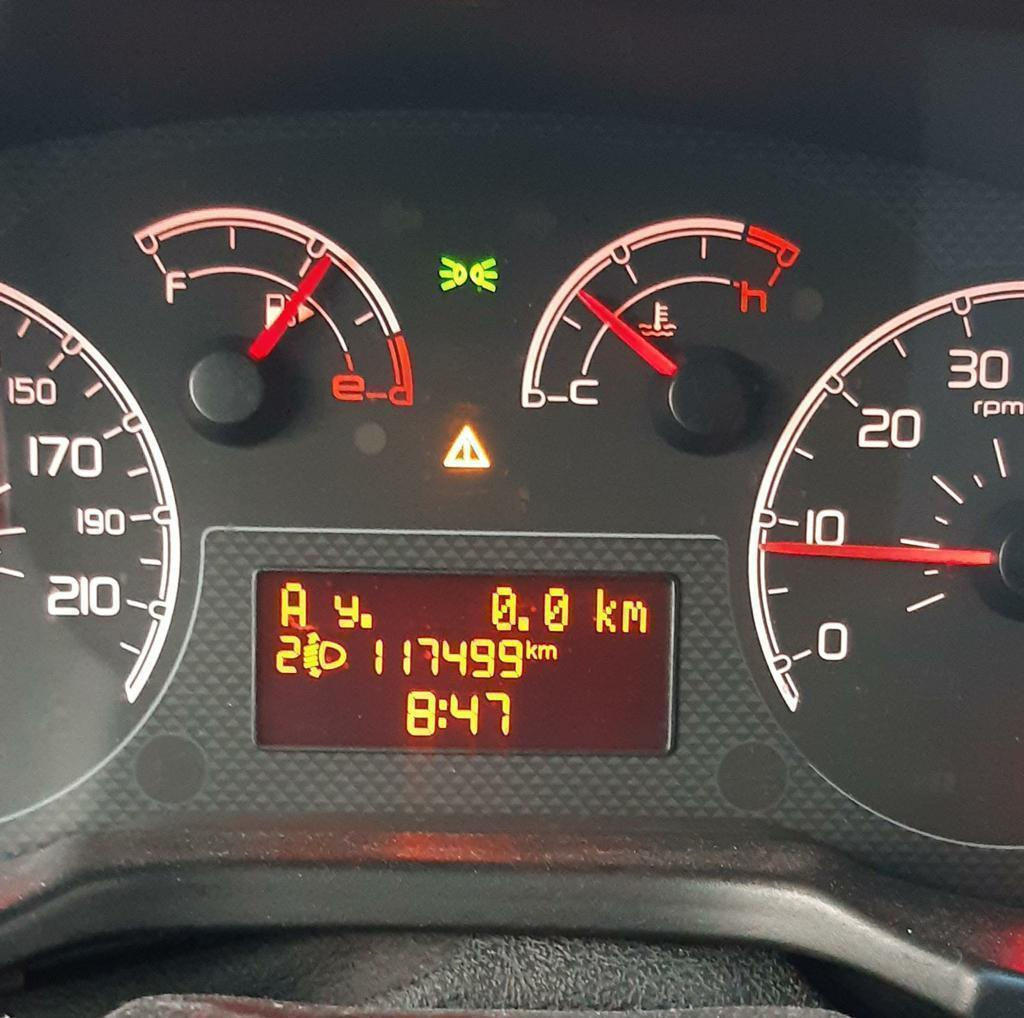,: (359, 610, 375, 631), (517, 614, 531, 633)
0: (541, 584, 572, 634), (488, 583, 517, 634)
1: (369, 635, 387, 678), (395, 635, 412, 676)
2: (271, 632, 301, 677)
4: (449, 692, 479, 737), (442, 637, 468, 676)
7: (481, 687, 514, 739), (413, 634, 441, 677)
8: (402, 686, 437, 738)
9: (468, 637, 497, 681), (498, 638, 523, 680)
X: (277, 578, 308, 628), (592, 583, 618, 635), (329, 590, 360, 630), (619, 597, 650, 634), (538, 642, 558, 661), (438, 695, 448, 731), (525, 637, 538, 661)
odometer: (248, 566, 682, 758)
